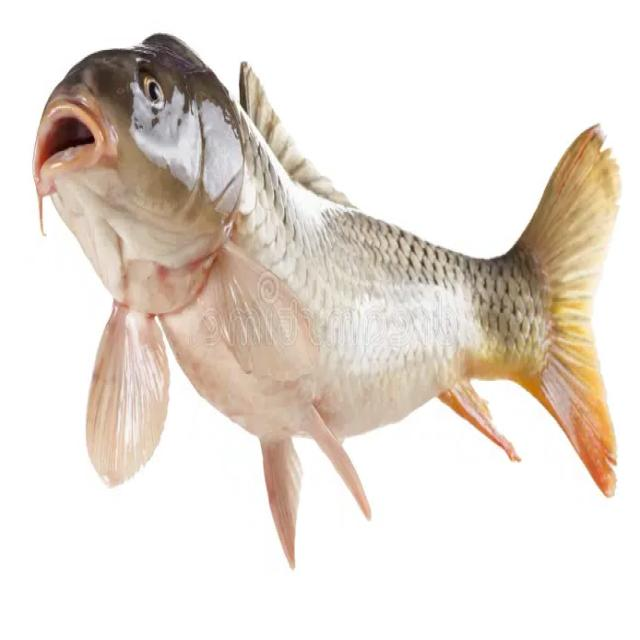Common carp: (31, 33, 620, 575)
